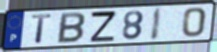0: (181, 6, 209, 39)
8: (121, 10, 145, 41)
B: (56, 12, 87, 45)
I: (150, 7, 164, 41)
T: (31, 13, 54, 45)
Z: (89, 10, 118, 43)
